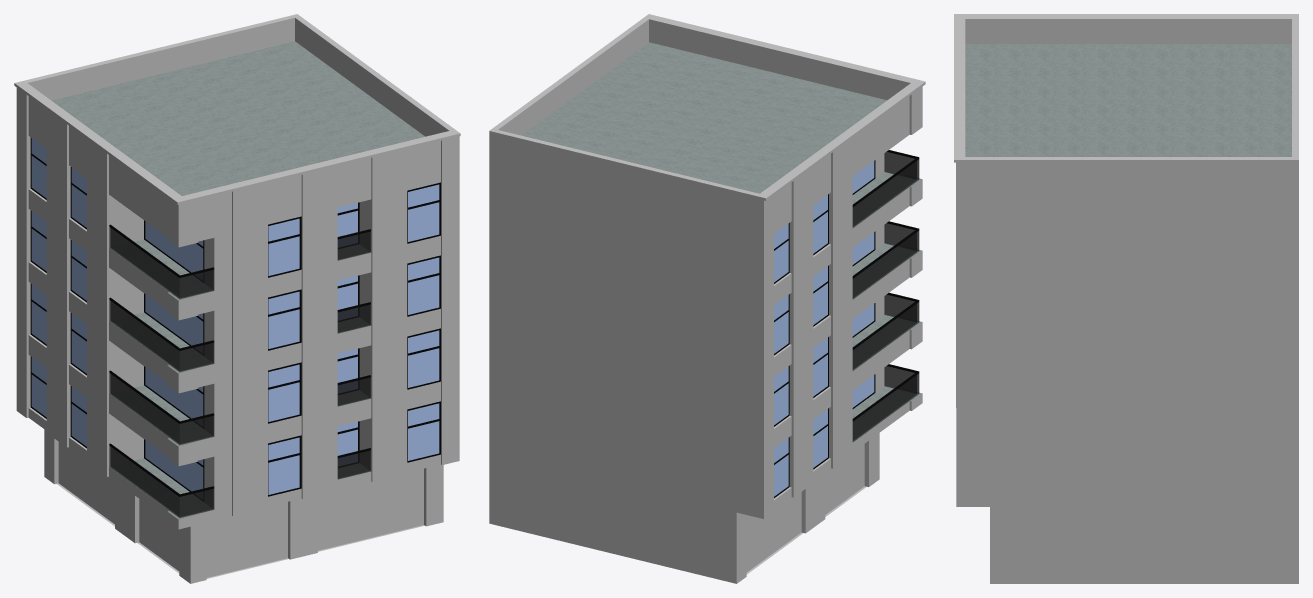
The model's file is Build_corner.fbx.
3 views of the same model, side by side, from view 1: azimuth 30°, elevation 25°; view 2: azimuth 150°, elevation 25°; view 3: azimuth 270°, elevation 25° (orthographic). The views are drawn at different scales.
Visible parts, largest first — view 1: Part_corner; view 2: Part_corner; view 3: Part_corner.
Part boxes in pixels (left/top/right/bottom): Part_corner: left=14, top=14, right=460, bottom=583; Part_corner: left=489, top=14, right=925, bottom=583; Part_corner: left=954, top=14, right=1298, bottom=583.
Size of the model in its own units: 406 by 550 by 405.
